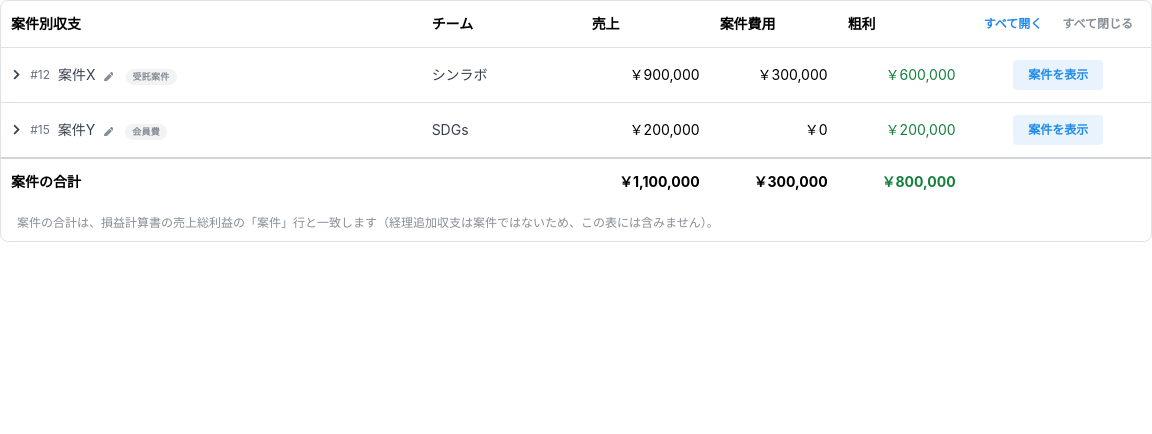
Test: MatterProfitTable › 「すべて開く」「すべて閉じる」で全案件の内訳をまとめて開閉する（Issue #152 / #235）: テーブル見出し（md 以上）
Expected: the text "外注費用" is not shown
Expected: the text "取引先B" is not shown
Click the button with aria-label "案件別収支をすべて開く" at [1013, 24], box [976, 13, 1050, 35]
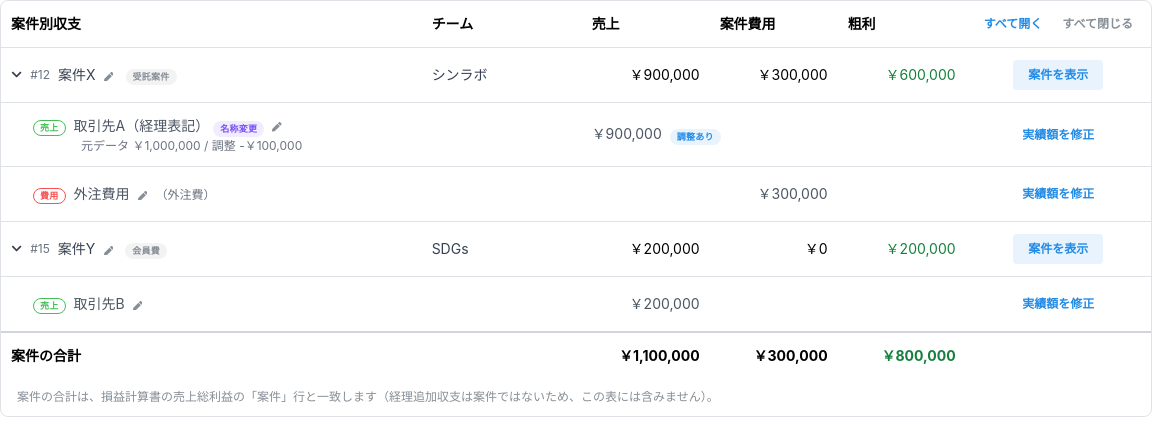
Result: the text "外注費用" is shown at [74, 185, 130, 202]
Result: the text "取引先B" is shown at [74, 295, 125, 312]
Click the button with aria-label "案件別収支をすべて閉じる" at [1098, 24], box [1054, 13, 1141, 35]
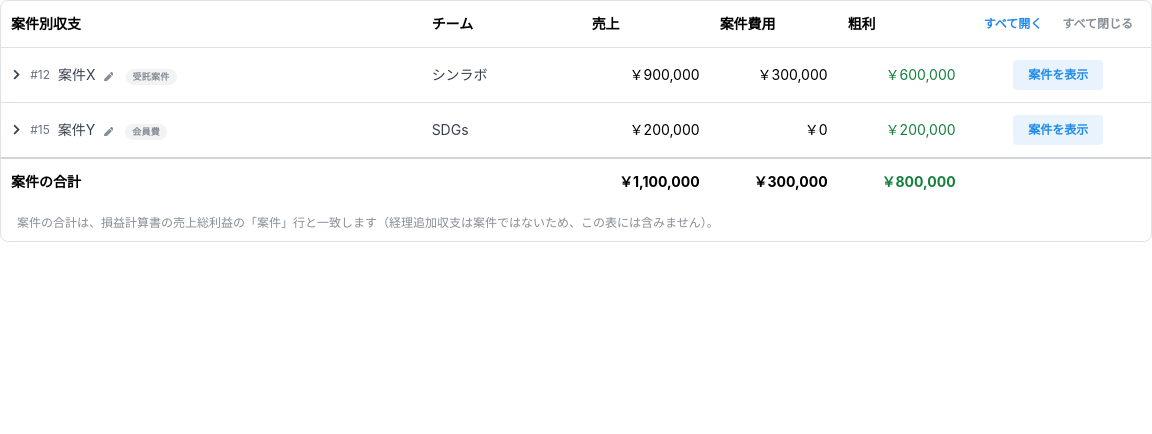
Result: the text "外注費用" is gone
Result: the text "取引先B" is gone
